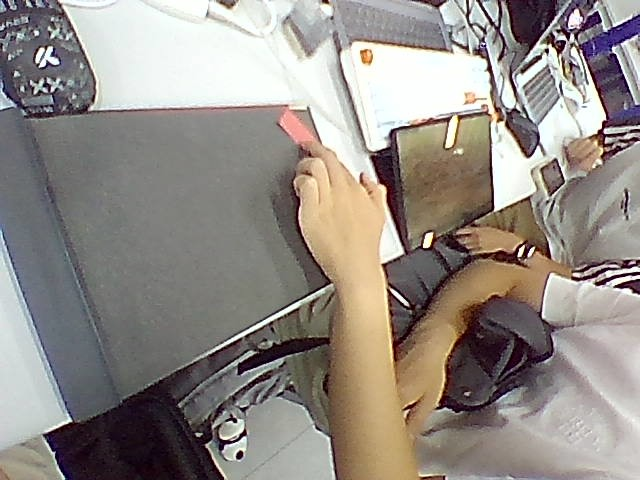card: (278, 109, 316, 143), (278, 109, 315, 143)
